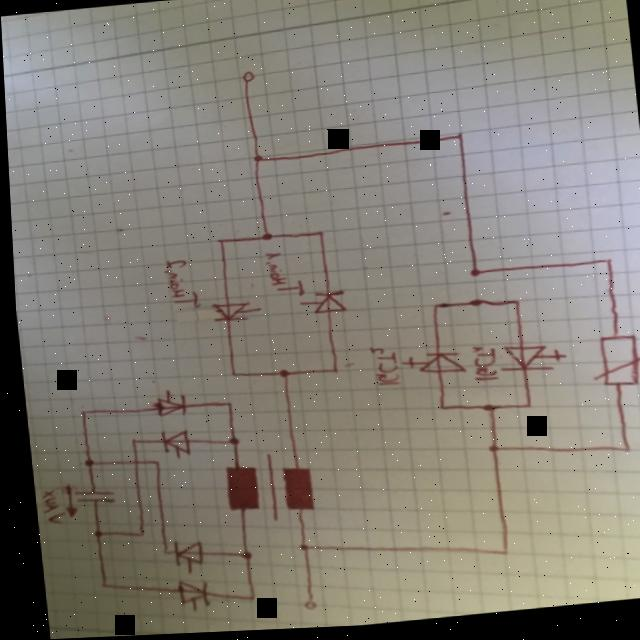capacitor: (67, 485, 113, 509)
crossover: (126, 459, 137, 469)
junction: (255, 233, 271, 245), (477, 407, 494, 418), (249, 156, 263, 168), (465, 272, 479, 284), (222, 438, 236, 450), (234, 552, 247, 564), (273, 370, 287, 381), (492, 551, 505, 562), (78, 458, 90, 469), (505, 303, 519, 312), (482, 448, 494, 458), (292, 546, 304, 556), (453, 136, 464, 146), (432, 407, 443, 417), (87, 530, 97, 541), (326, 369, 336, 379), (313, 232, 324, 241), (74, 409, 85, 418), (428, 307, 439, 316), (601, 262, 611, 271), (241, 596, 251, 605), (94, 582, 104, 591), (225, 372, 235, 381), (617, 452, 628, 460), (220, 403, 231, 411), (213, 240, 223, 248), (148, 460, 157, 468), (519, 408, 529, 415), (126, 439, 134, 447), (155, 550, 163, 558), (132, 532, 140, 540)
terminal: (238, 72, 256, 87), (295, 601, 312, 615)
text: (158, 258, 199, 314), (260, 252, 304, 303), (363, 346, 398, 393), (465, 348, 497, 388), (33, 489, 62, 529)
thyristor: (494, 346, 561, 381), (401, 354, 464, 383), (170, 578, 205, 612), (166, 538, 199, 571), (207, 303, 251, 327), (306, 293, 346, 318), (155, 430, 187, 460), (151, 395, 183, 421)
transformer: (217, 451, 312, 530)
